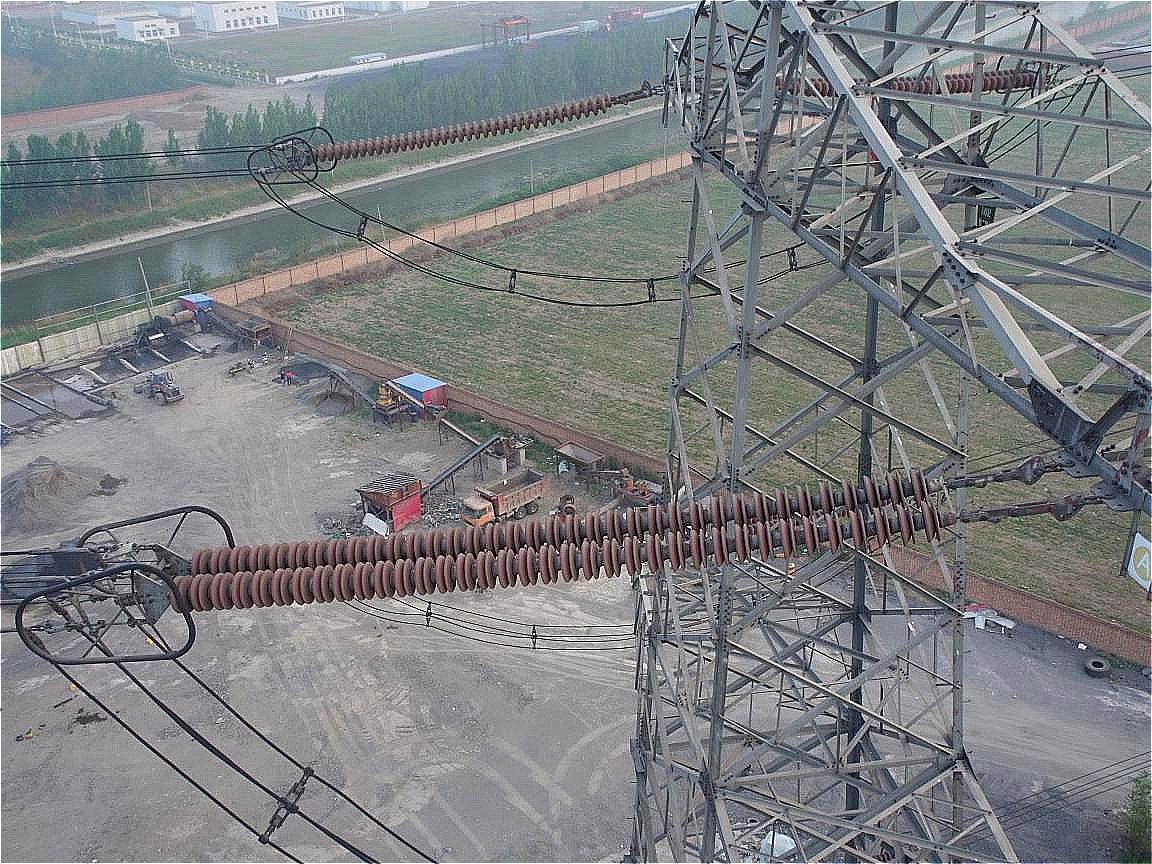insultor1: (295, 91, 625, 175)
insultor2: (136, 455, 982, 635)
